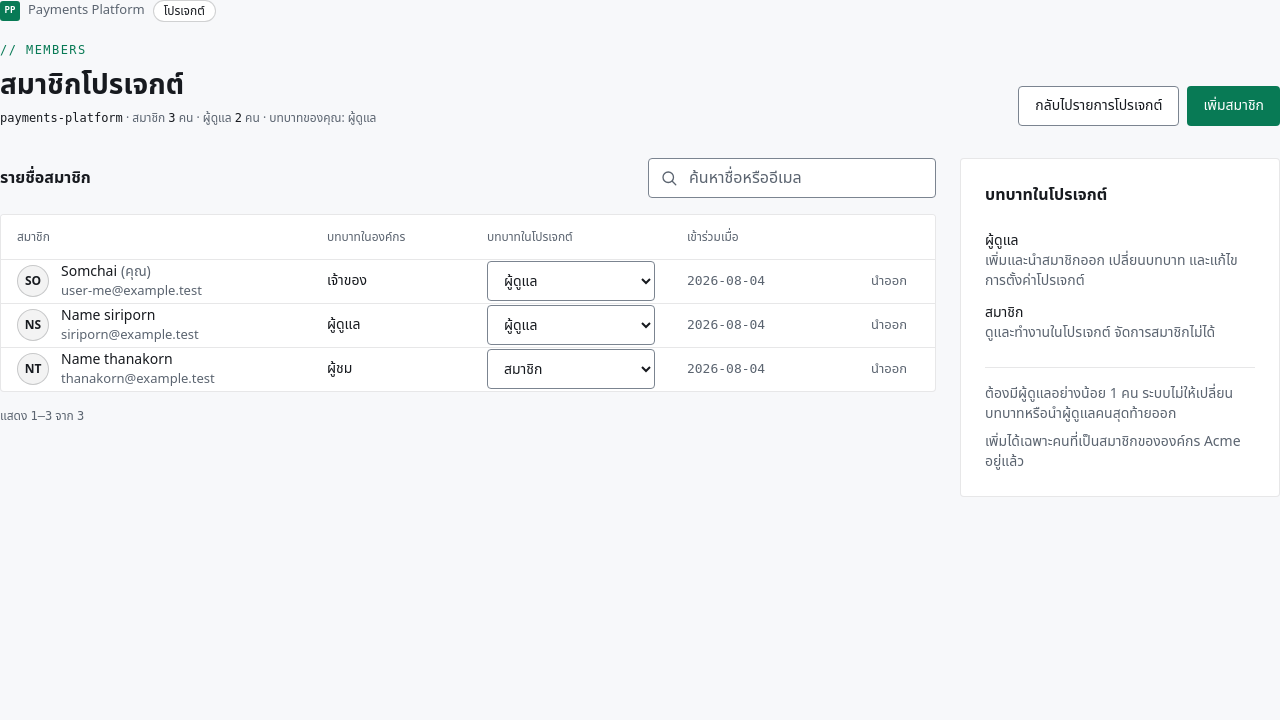
Test: self changes › says you left the project, not a bare not-found, after removing yourself
The image size is (1280, 720).
Expected: the element with test id "project-members-table" is shown, x1=0 y1=214 x2=936 y2=392
Click the button "นำออก" in the row of "Somchai" at [889, 281], box x1=859 y1=265 x2=919 y2=297
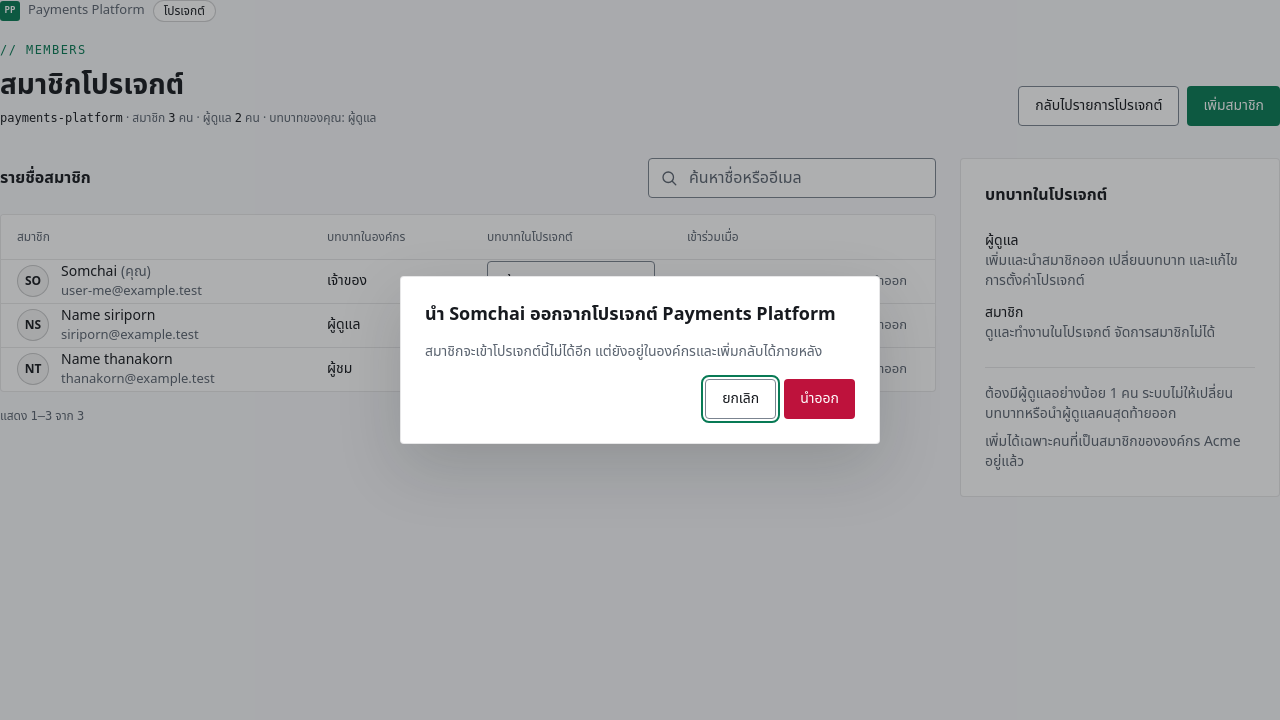
Click the button with test id "project-member-remove-confirm" at [820, 399], box x1=784 y1=379 x2=855 y2=419
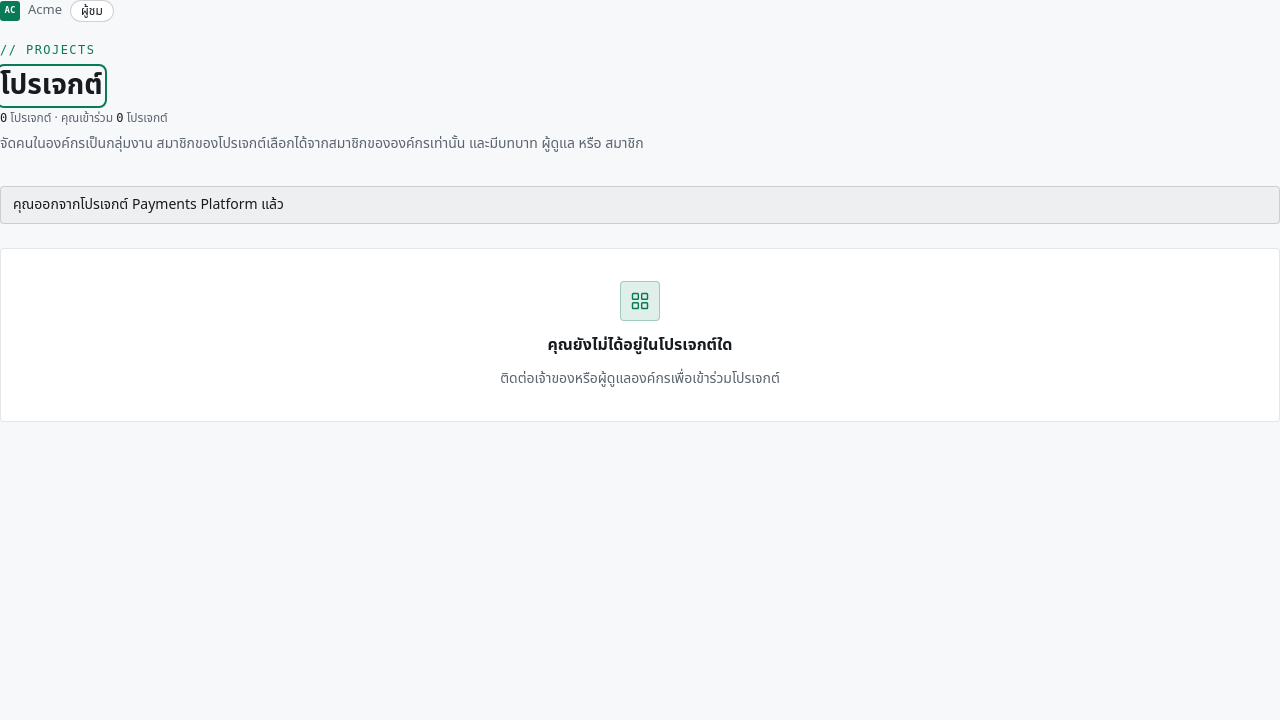
Expected: the message "คุณออกจากโปรเจกต์ Payments Platform แล้ว" is shown, x1=0 y1=186 x2=1279 y2=224
Expected: the message with test id "projects-notice-role-changed" reads "คุณออกจากโปรเจกต์ Payments Platform แล้ว", x1=13 y1=194 x2=284 y2=215
